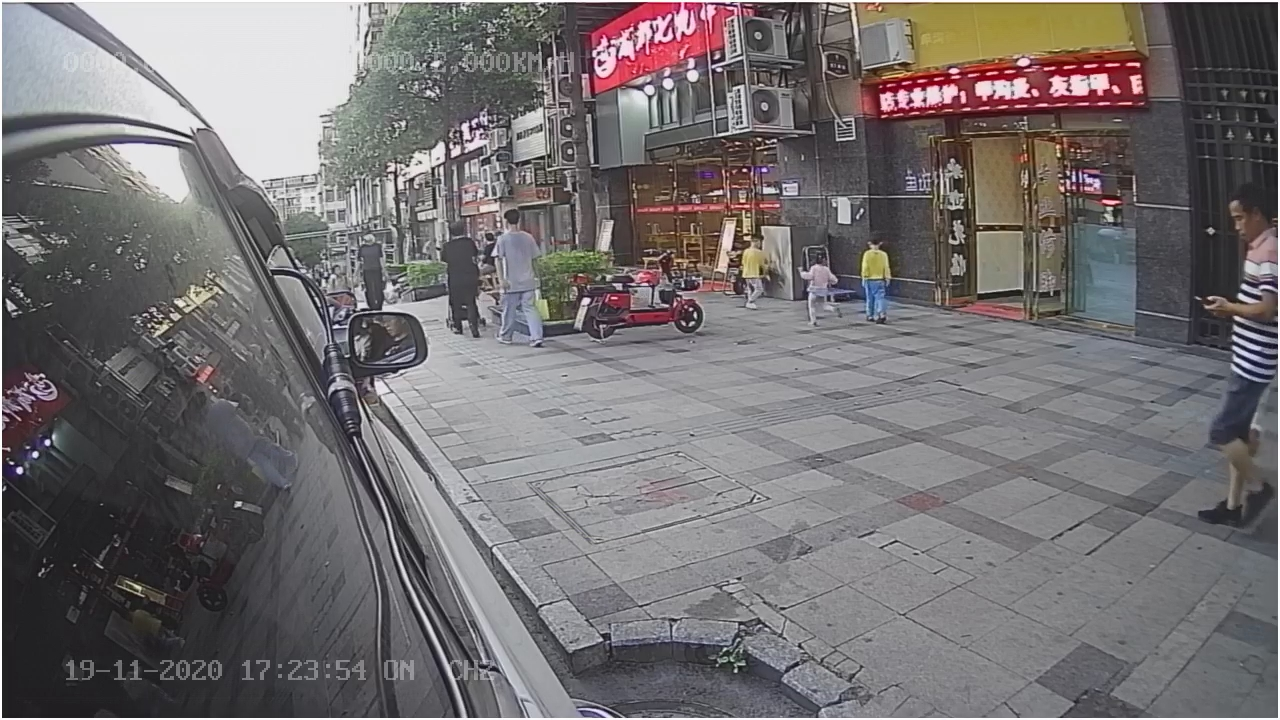person: (489, 204, 552, 352), (435, 221, 486, 339), (793, 246, 844, 333), (856, 231, 898, 330), (738, 228, 772, 317)
